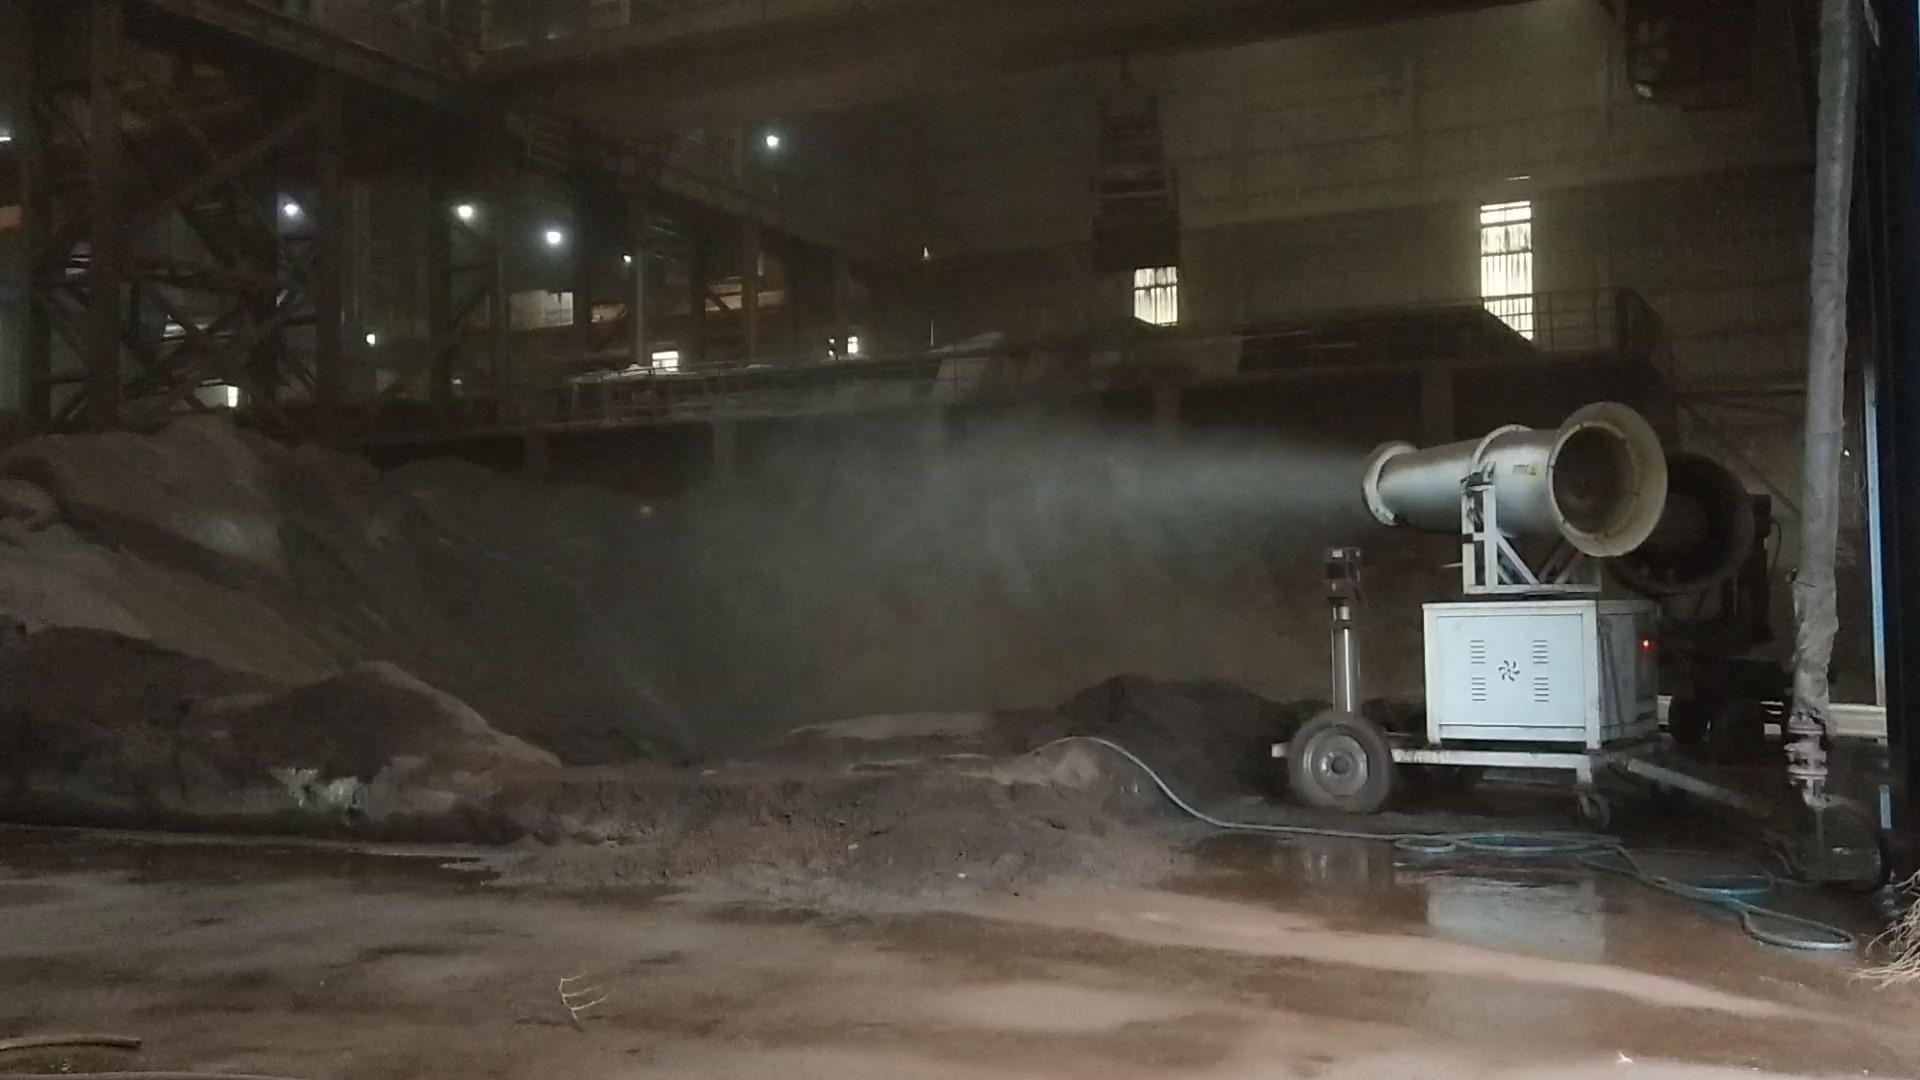dust: (771, 401, 1352, 673)
grab: (1071, 54, 1193, 278)
